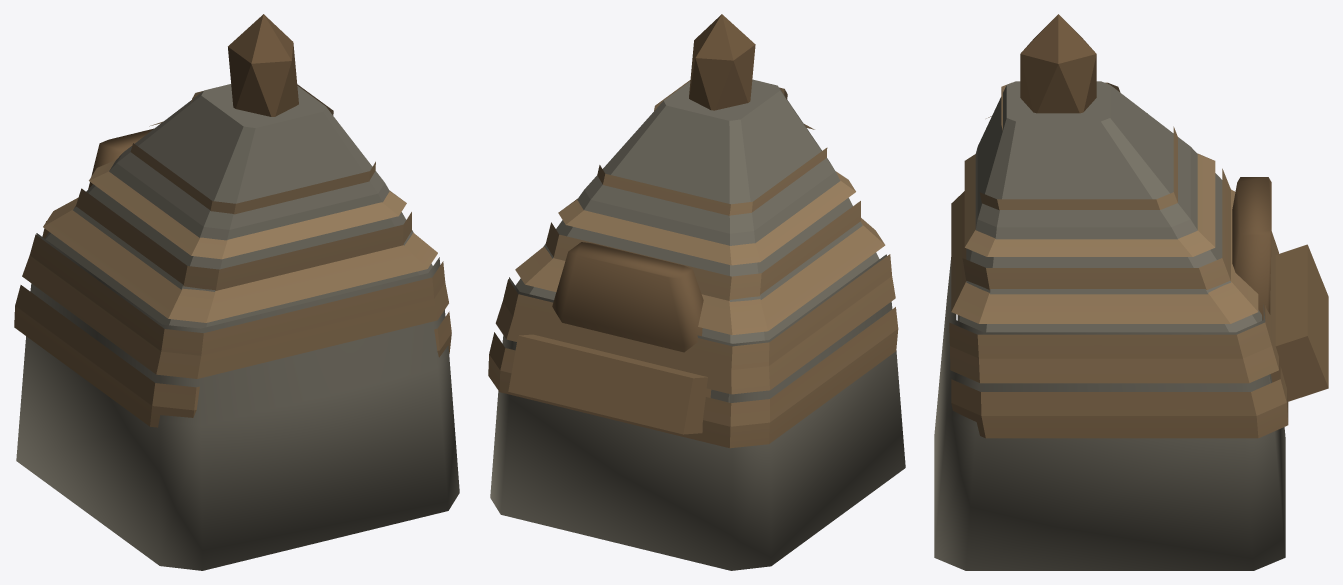
3 views of the same model, side by side, from view 1: azimuth 30°, elevation 25°; view 2: azimuth 150°, elevation 25°; view 3: azimuth 270°, elevation 25° (orthographic). The views are drawn at different scales.
Visible parts, largest first — view 1: lamellar_helm; view 2: lamellar_helm; view 3: lamellar_helm.
Boxes of the visible parts, box(x1,y1,x2,y2) form: lamellar_helm: box(14, 14, 459, 570); lamellar_helm: box(488, 14, 905, 570); lamellar_helm: box(934, 14, 1328, 570).
Size of the model in its own units: 0.2705 by 0.415 by 0.3069.
